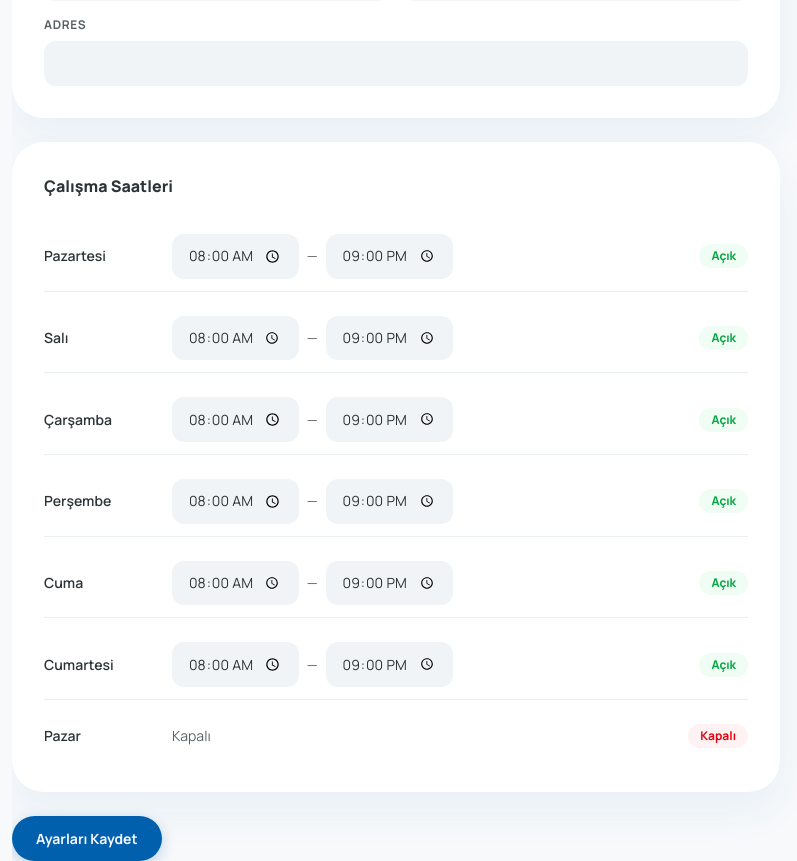
Test case: SettingsPage › shows success message on successful save
(page scrolled)
Get the save button from the main section (not the section headers)
Click the button "Ayarları Kaydet": (87, 839) [12,816,162,860]
(page scrolled)
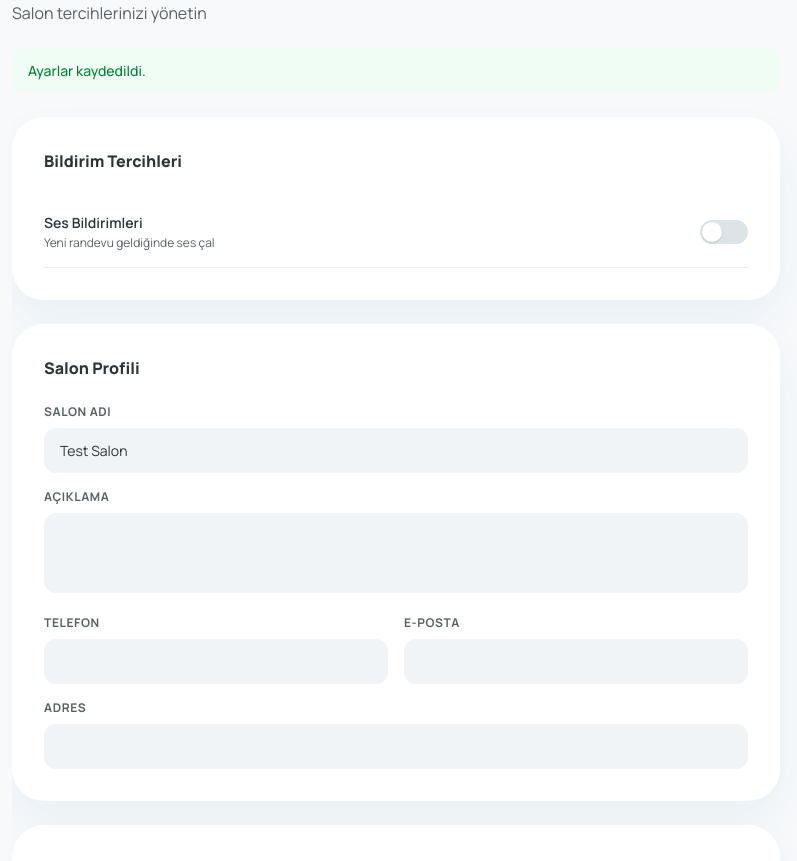
Check: the text "Ayarlar kaydedildi." is shown, box [12,49,780,93]
